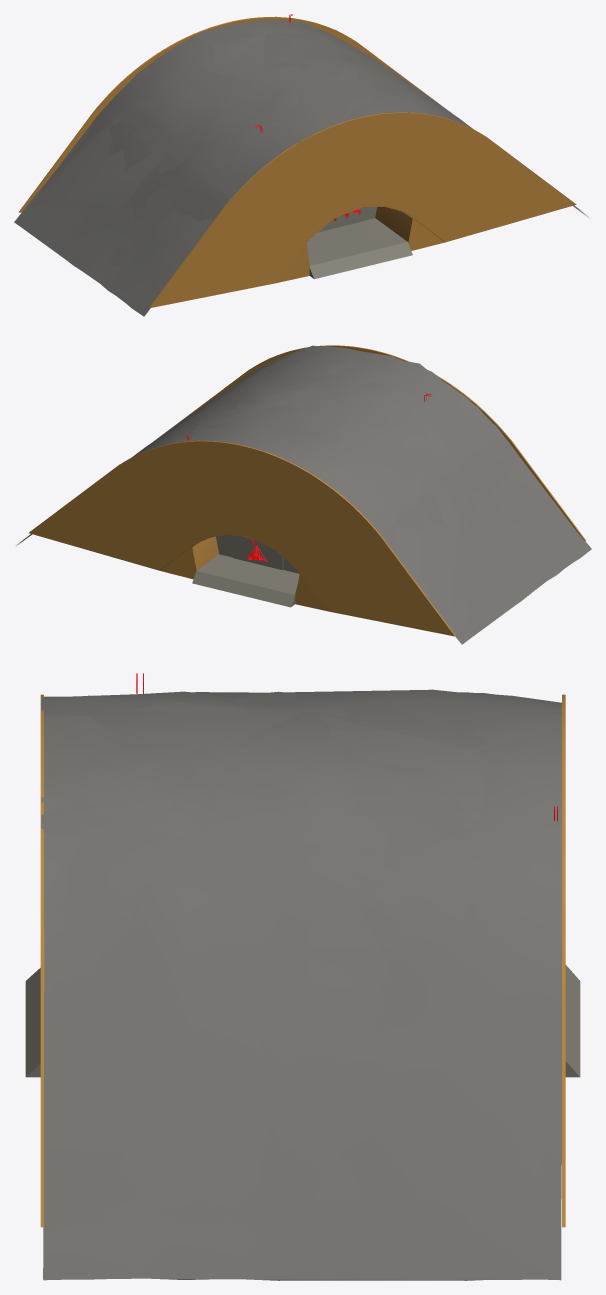
The model's file is Nuclear_Plant.glb.
3 views of the same model, one above another, from view 1: azimuth 30°, elevation 25°; view 2: azimuth 150°, elevation 25°; view 3: azimuth 270°, elevation 25° (orthographic). The views are drawn at different scales.
Visible parts, largest first — view 1: NuclearReactorBuilding, NuclearPlant-RegolithOverlay, NuclearPlant-RegolithOverlay.002, NuclearPlant-RegolithOverlay.001, NuclearReactorBuilding.001, NuclearReactorBuilding.002; view 2: NuclearReactorBuilding, NuclearPlant-RegolithOverlay, NuclearPlant-RegolithOverlay.002, NuclearPlant-RegolithOverlay.001, NuclearReactorBuilding.002, NuclearReactorBuilding.001; view 3: NuclearPlant-RegolithOverlay, NuclearPlant-RegolithOverlay.001, NuclearPlant-RegolithOverlay.002, NuclearReactorBuilding, NuclearReactorBuilding.001.
Part boxes in pixels (<box>): NuclearReactorBuilding: <box>19,17,576,307</box>; NuclearPlant-RegolithOverlay: <box>14,20,588,316</box>; NuclearPlant-RegolithOverlay.002: <box>27,21,588,316</box>; NuclearPlant-RegolithOverlay.001: <box>14,20,471,310</box>; NuclearReactorBuilding.001: <box>64,16,510,282</box>; NuclearReactorBuilding.002: <box>94,18,467,284</box>; NuclearReactorBuilding: <box>29,345,585,636</box>; NuclearPlant-RegolithOverlay: <box>18,345,591,643</box>; NuclearPlant-RegolithOverlay.002: <box>133,345,581,644</box>; NuclearPlant-RegolithOverlay.001: <box>17,346,567,643</box>; NuclearReactorBuilding.002: <box>160,393,463,620</box>; NuclearReactorBuilding.001: <box>78,345,540,609</box>; NuclearPlant-RegolithOverlay: <box>41,691,561,1280</box>; NuclearPlant-RegolithOverlay.001: <box>41,692,561,1280</box>; NuclearPlant-RegolithOverlay.002: <box>41,689,561,1279</box>; NuclearReactorBuilding: <box>25,694,580,1227</box>; NuclearReactorBuilding.001: <box>40,694,565,1220</box>.
Size of what is drawn, in the model's own units: 49.75 by 17.14 by 26.65.
